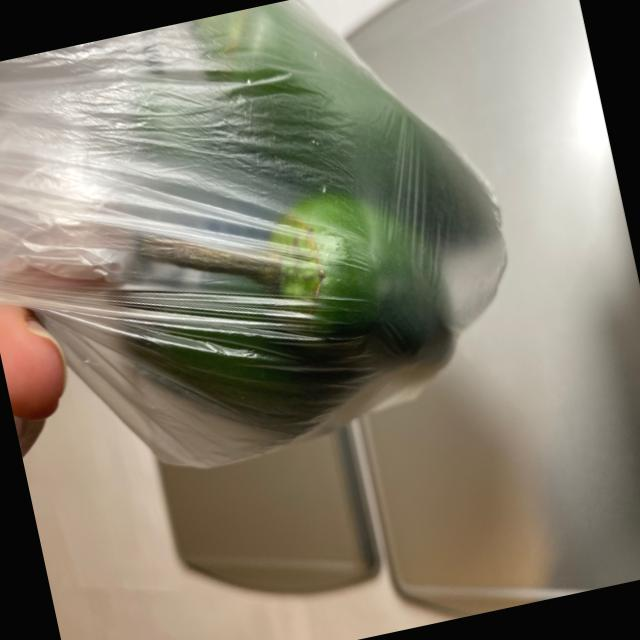chilli: (27, 0, 557, 482)
